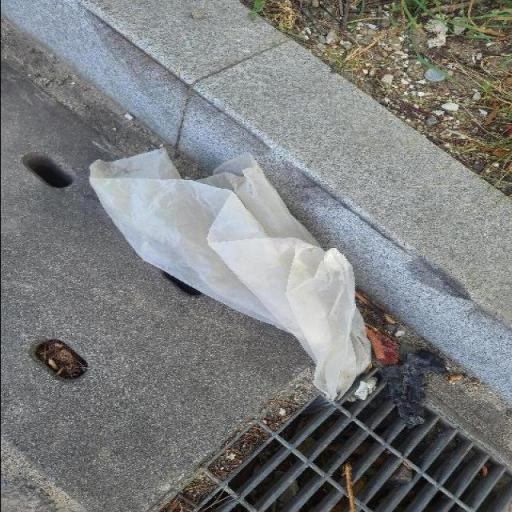plastic-bag: (82, 140, 372, 402)
